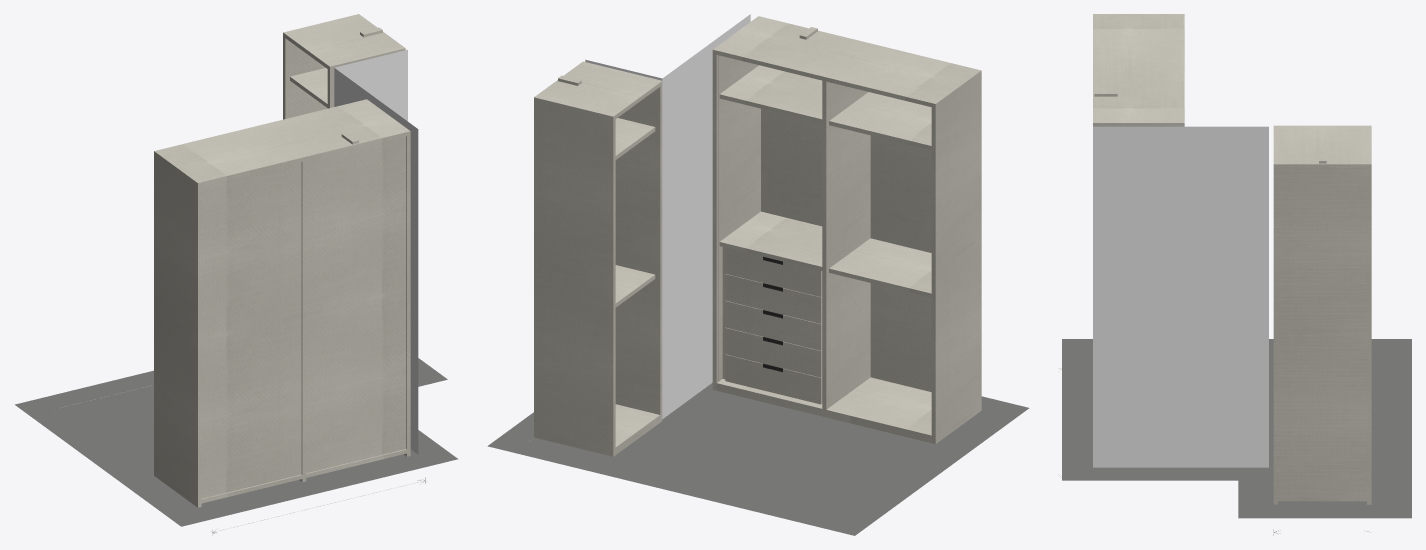
The model's file is CON TI.obj.
3 renders of one model, left to right at view 1: azimuth 30°, elevation 25°; view 2: azimuth 150°, elevation 25°; view 3: azimuth 270°, elevation 25°, orthographic. The views are drawn at different scales.
Parts seen in each view (by area): view 1: Mesh2 D1_SC_DXF1 Model; view 2: Mesh2 D1_SC_DXF1 Model; view 3: Mesh2 D1_SC_DXF1 Model.
Part boxes in pixels (<box>): Mesh2 D1_SC_DXF1 Model: <box>15,14,458,526</box>; Mesh2 D1_SC_DXF1 Model: <box>487,14,1029,535</box>; Mesh2 D1_SC_DXF1 Model: <box>1062,14,1411,518</box>.
Bounding box in the file's own units: 109 × 102 × 90.28.
Materials: 5 (2 with a texture image).
